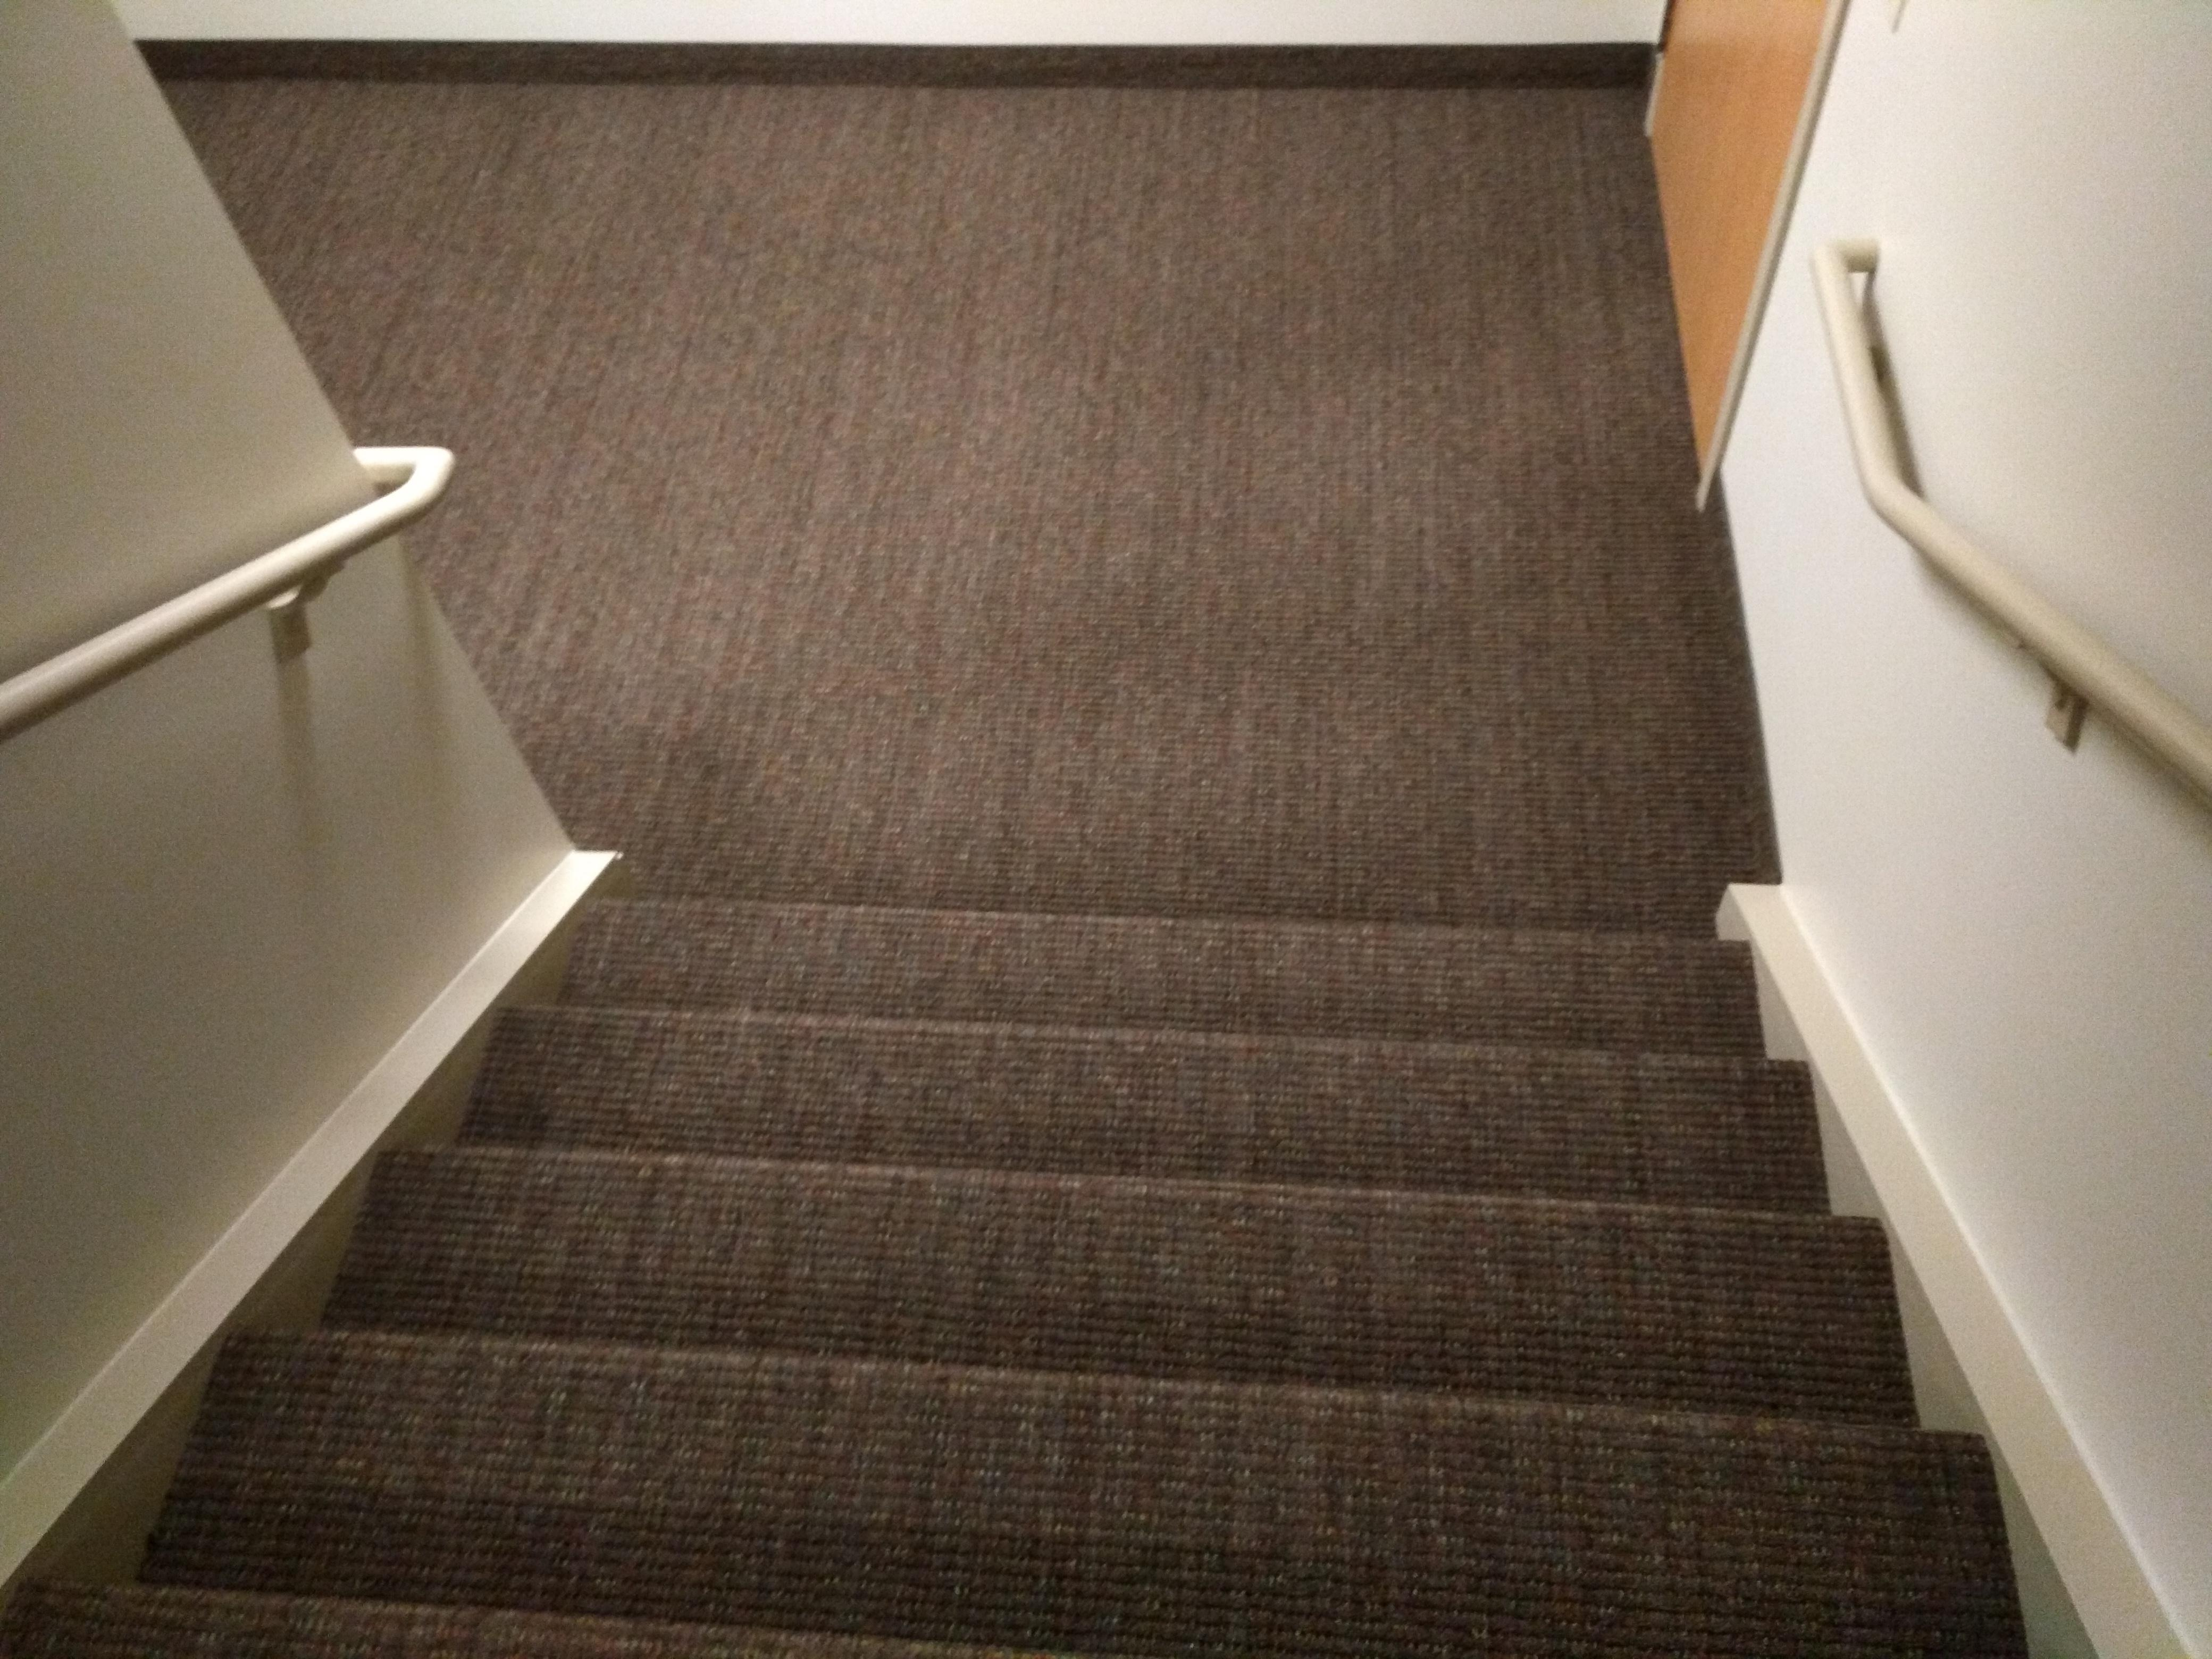stairs_down: (101, 849, 2078, 1617)
